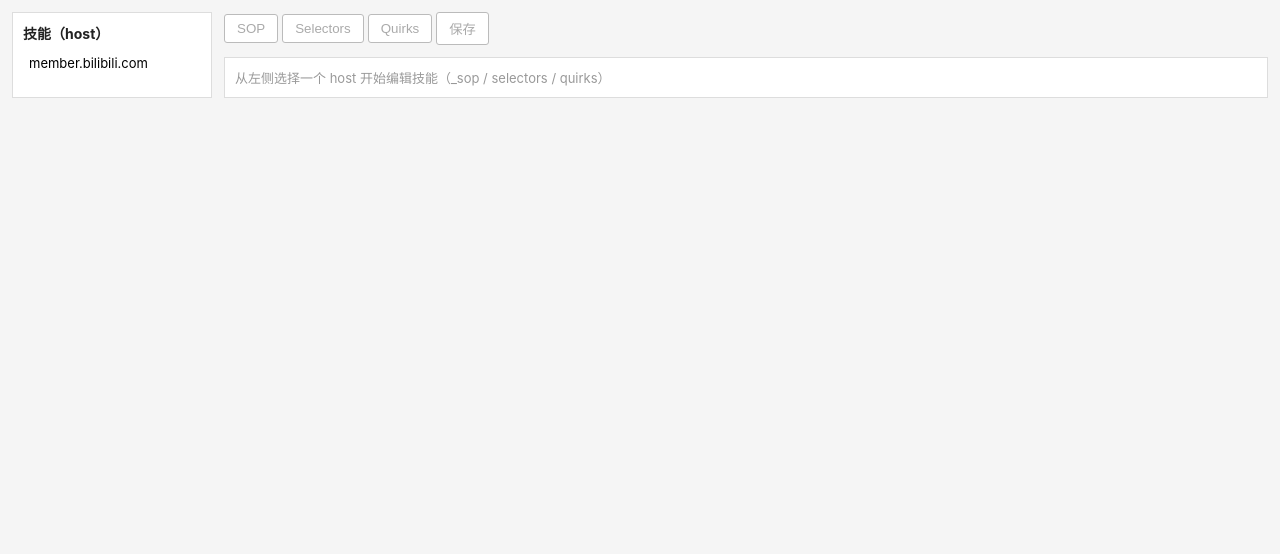
Scenario: SkillsShell (P6 后续 B) › 点击 host → 加载三文件，textarea 显示 _sop 内容
Click the button "member.bilibili.com" at point(112, 63), box [23, 51, 201, 75]
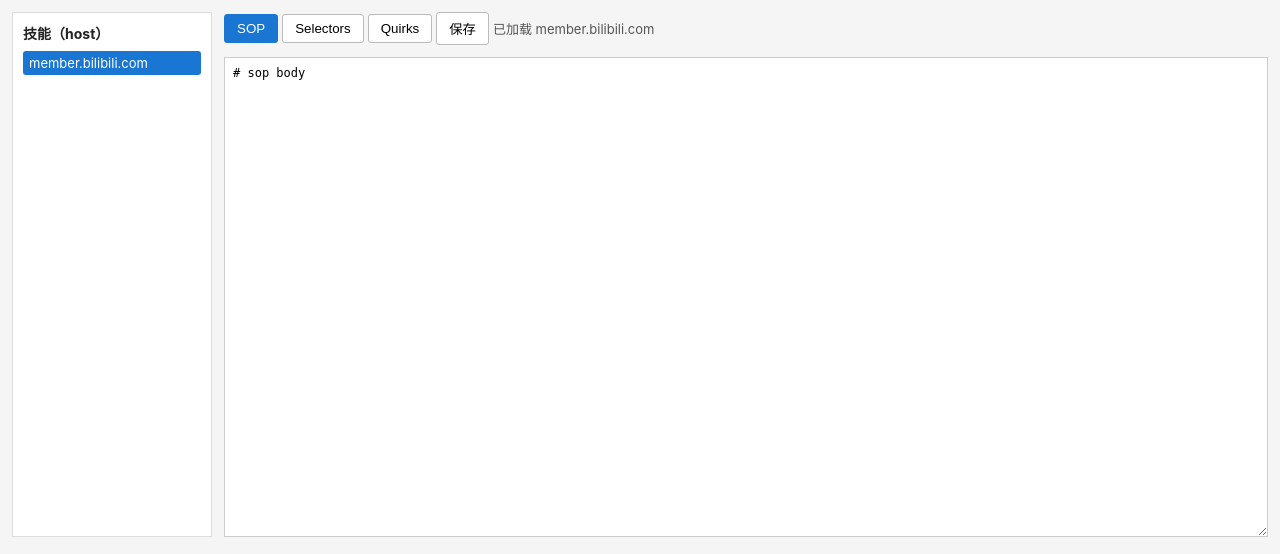
Expected: the text box holds "# sop body"
